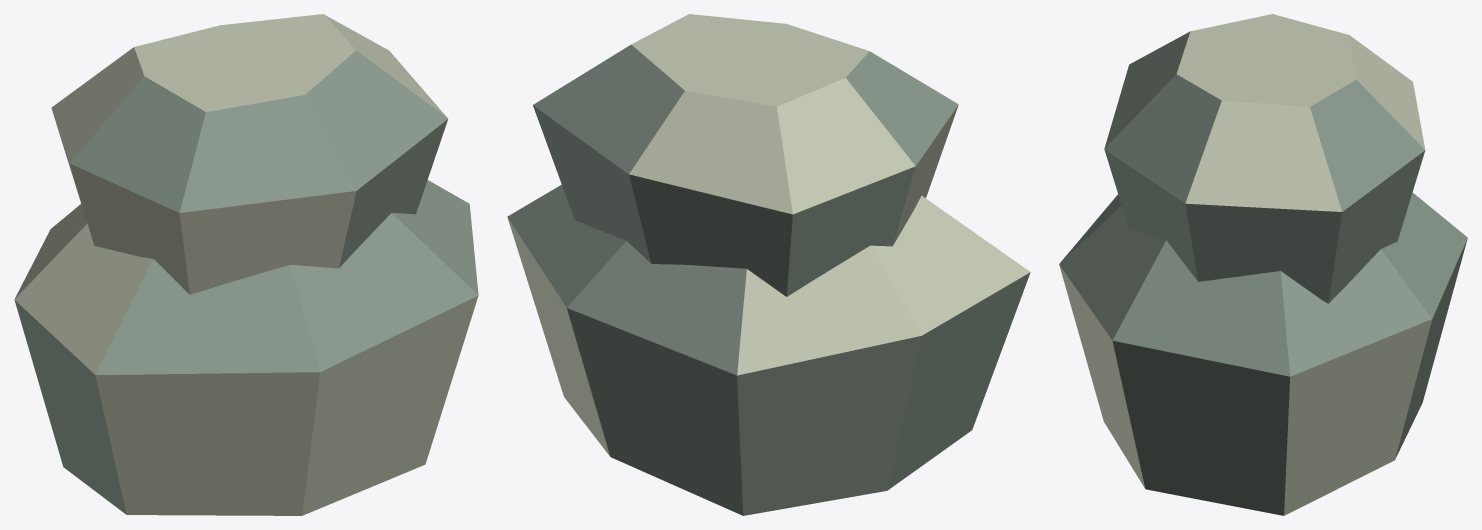
The picture shows the model from 3 angles, left to right: view 1: azimuth 30°, elevation 25°; view 2: azimuth 150°, elevation 25°; view 3: azimuth 270°, elevation 25°; orthographic projection. The views are drawn at different scales.
Parts seen in each view (by area): view 1: Silicate_Deposit; view 2: Silicate_Deposit; view 3: Silicate_Deposit.
Boxes of the visible parts, x1=… form: Silicate_Deposit: x1=14, y1=14, x2=478, y2=515; Silicate_Deposit: x1=507, y1=14, x2=1030, y2=515; Silicate_Deposit: x1=1059, y1=14, x2=1467, y2=515.
Bounding box in the file's own units: 0.8183 × 0.6801 × 0.6688.
